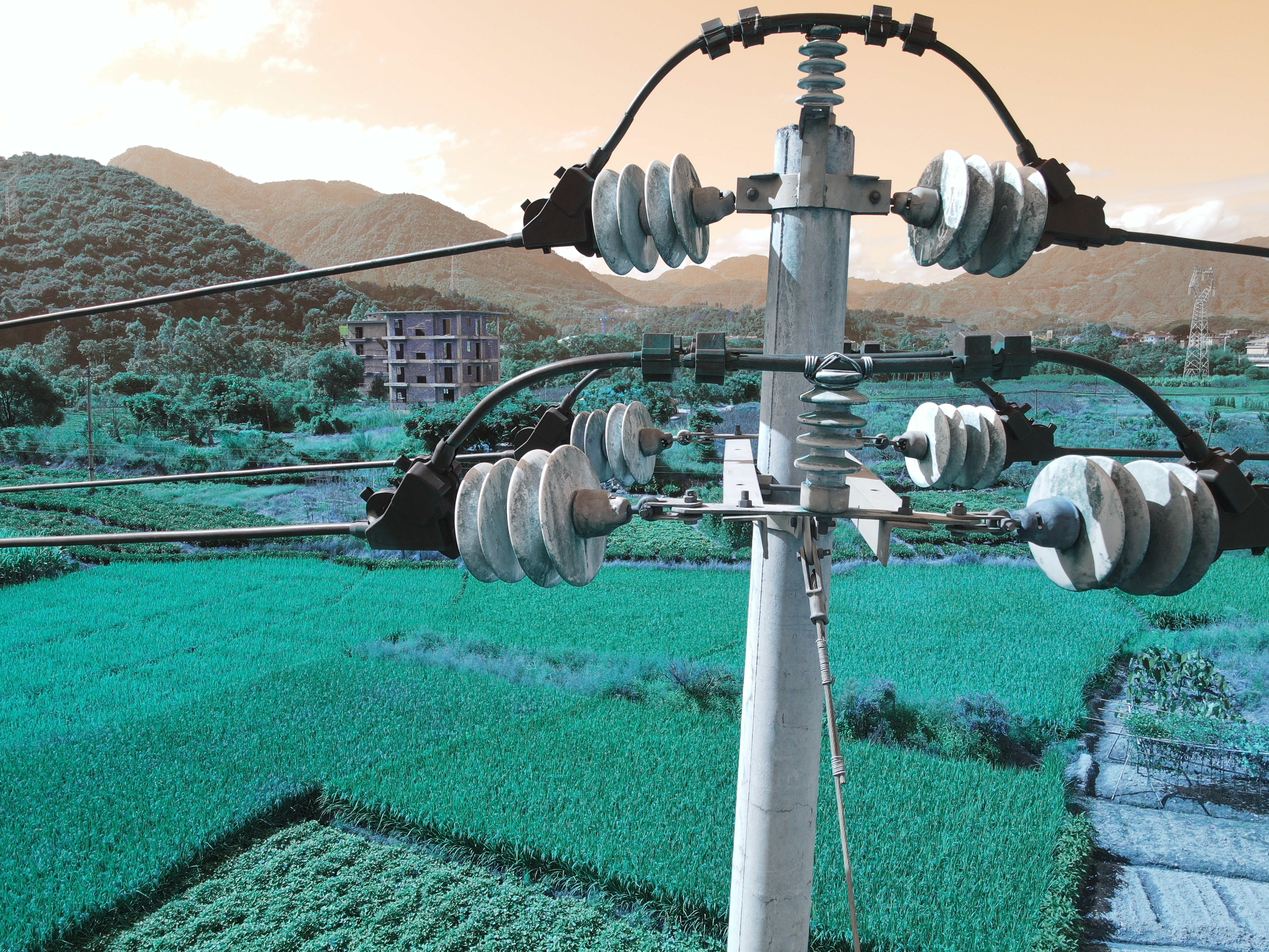severe_soiling_no_discharge_whole: (1014, 451, 1225, 598), (450, 446, 634, 592), (890, 148, 1049, 279), (589, 150, 738, 279), (795, 354, 874, 518), (891, 402, 1009, 493), (568, 403, 672, 488), (791, 21, 850, 125)
